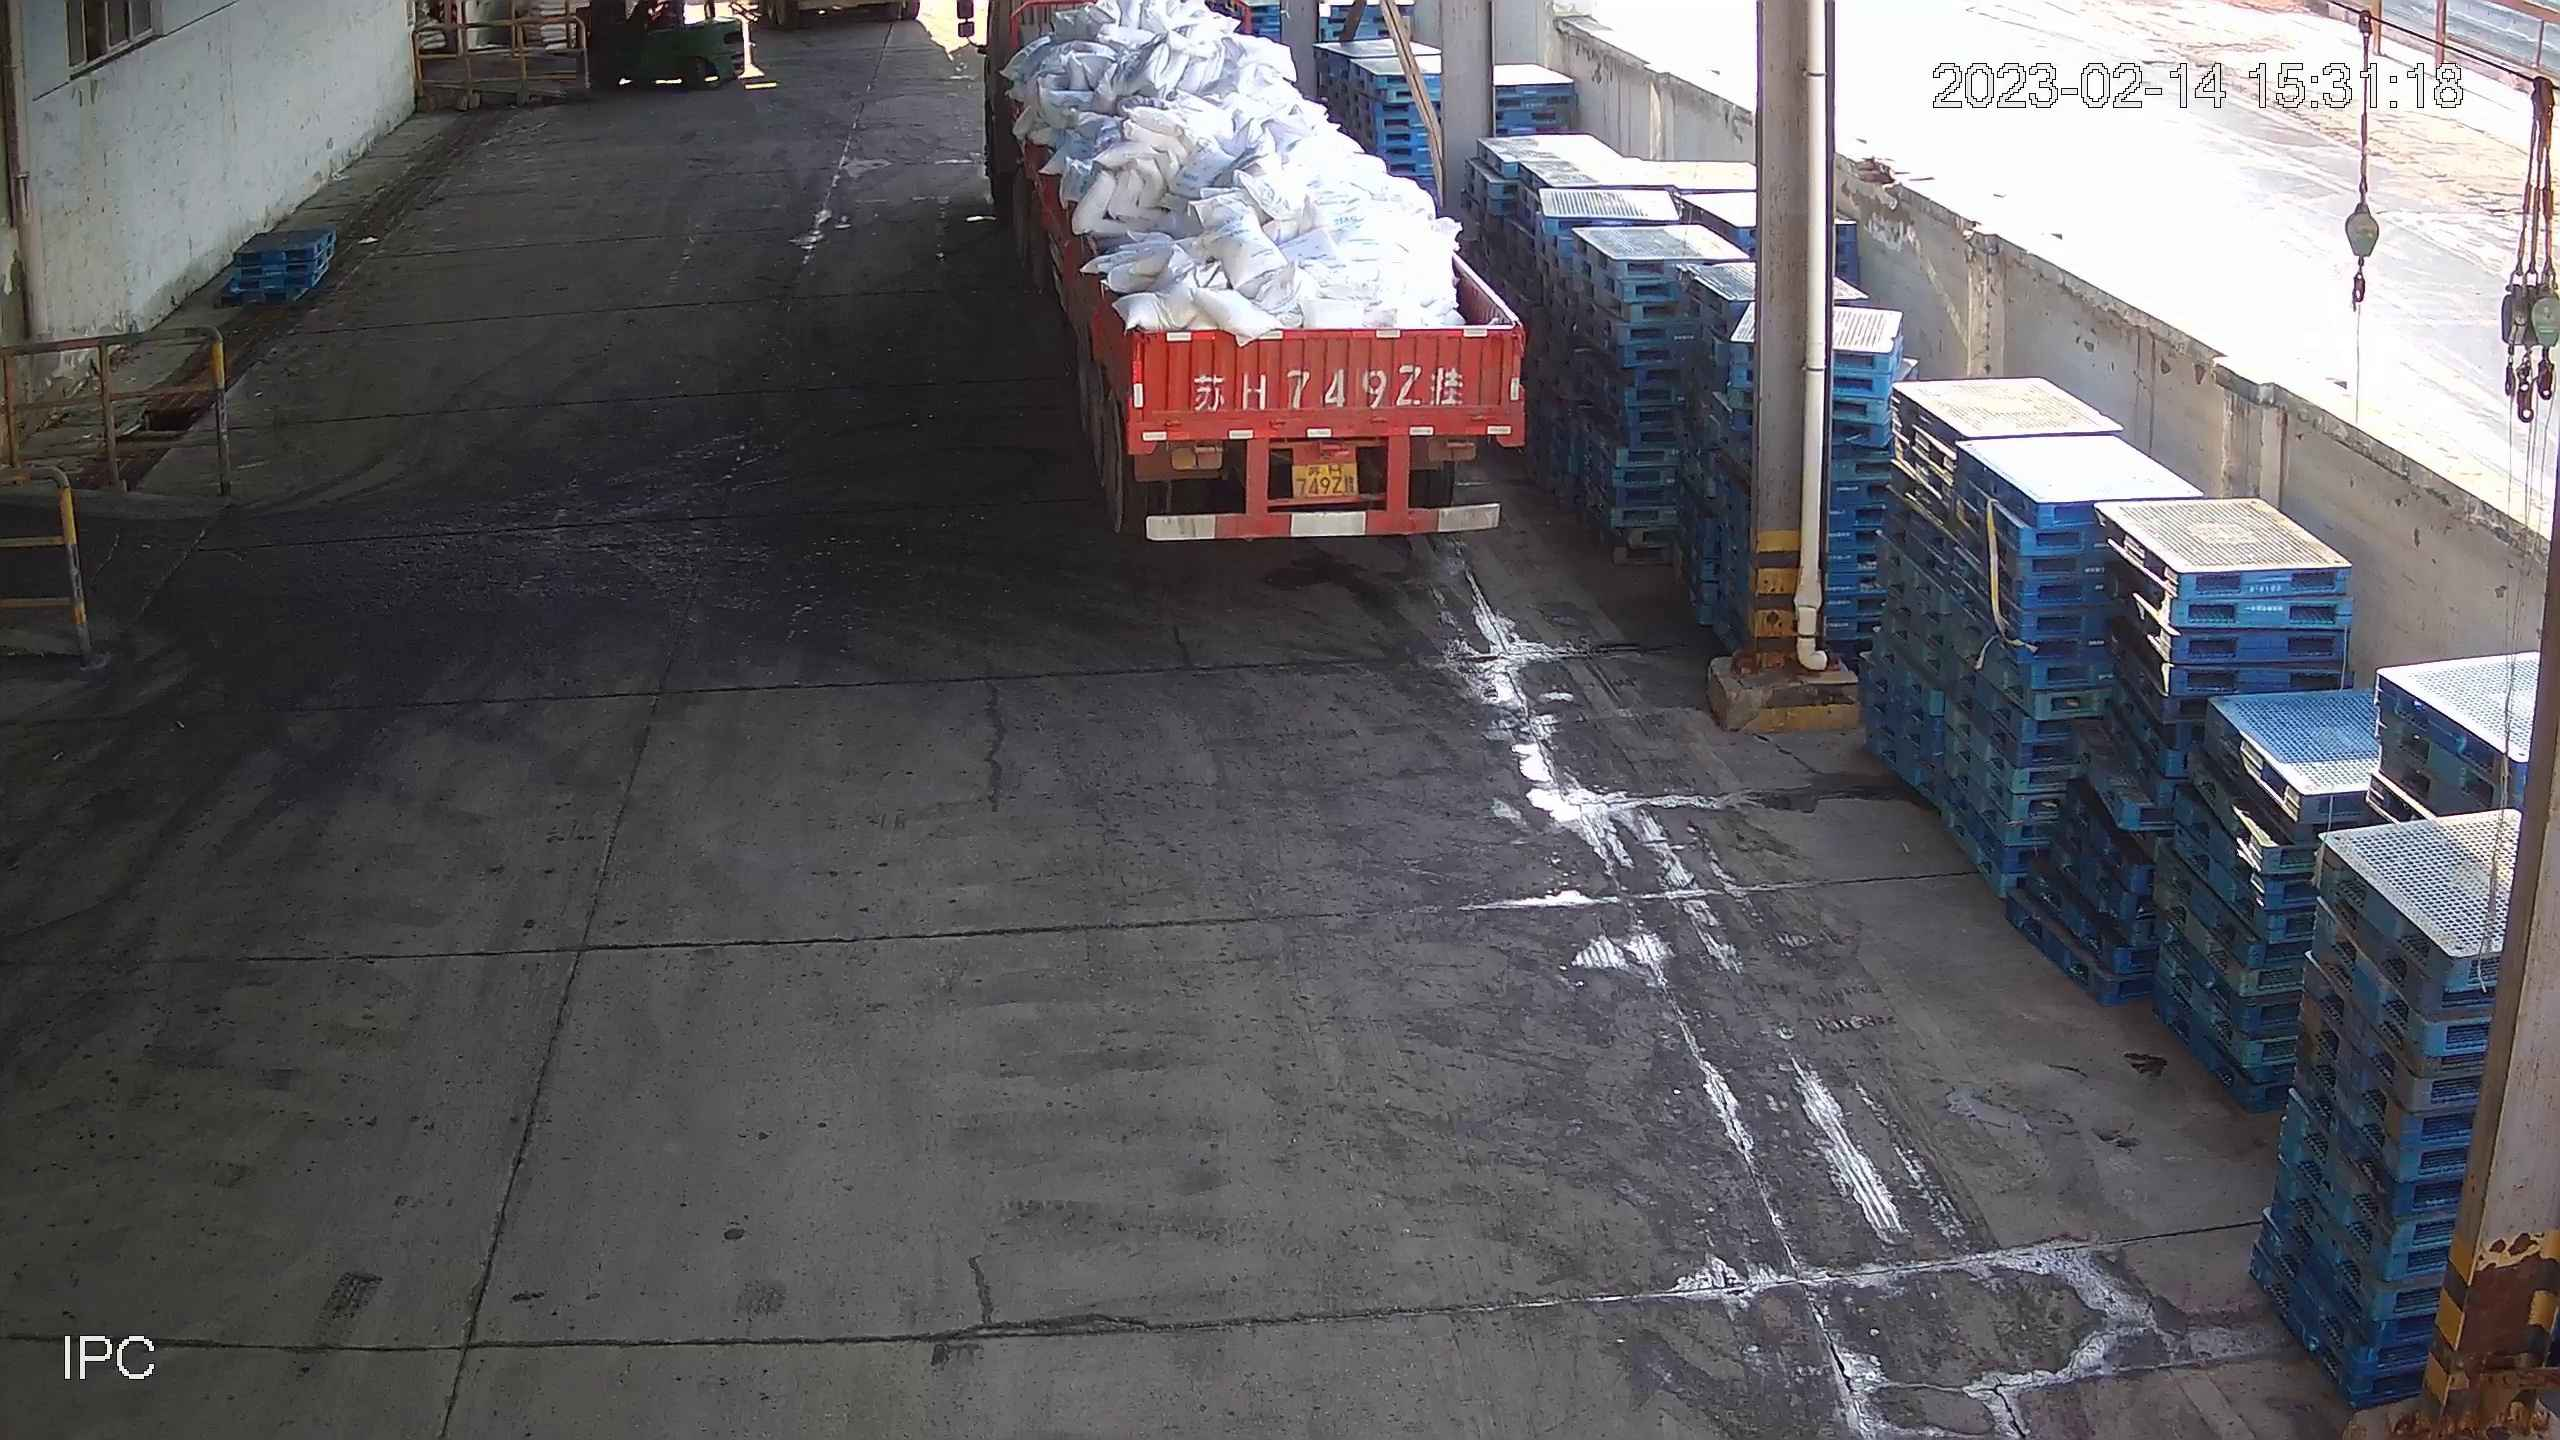truck: (955, 2, 1526, 543)
